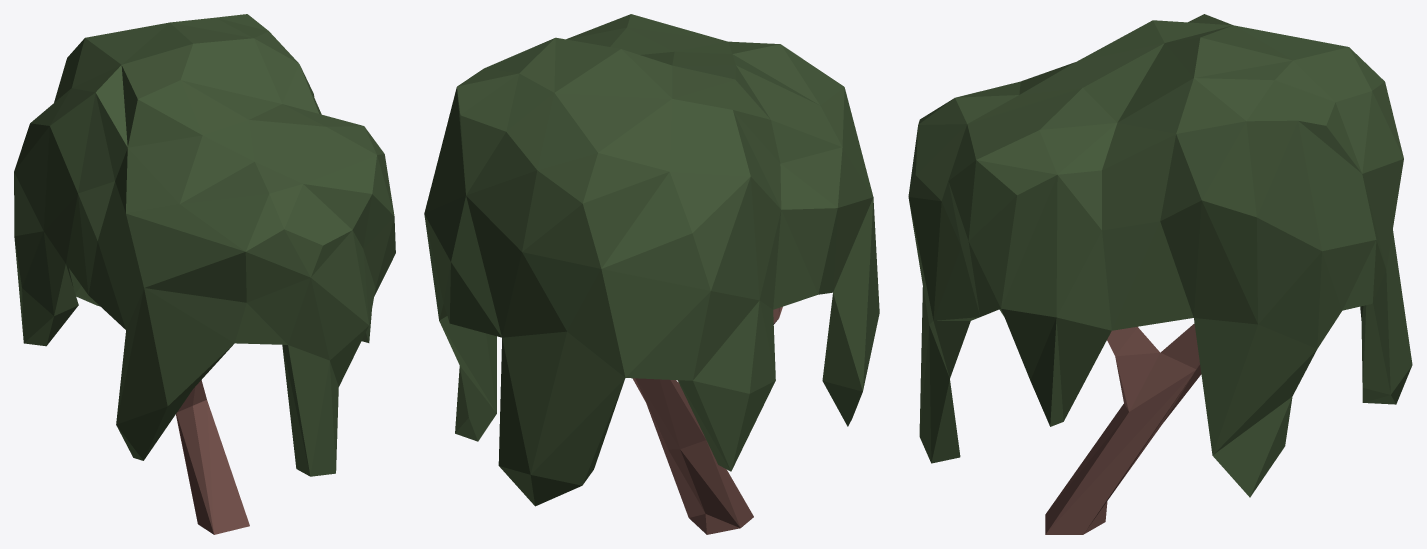
The model's file is Willow_4.lod2.glb.
The picture shows the model from 3 angles, left to right: view 1: azimuth 30°, elevation 25°; view 2: azimuth 150°, elevation 25°; view 3: azimuth 270°, elevation 25°; orthographic projection. The views are drawn at different scales.
Parts seen in each view (by area): view 1: Willow_4; view 2: Willow_4; view 3: Willow_4.
Boxes of the visible parts, x1=… form: Willow_4: x1=14, y1=14, x2=395, y2=534; Willow_4: x1=424, y1=14, x2=879, y2=534; Willow_4: x1=908, y1=14, x2=1412, y2=534.
Bounding box in the file's own units: 2.16 × 3.38 × 3.07.
